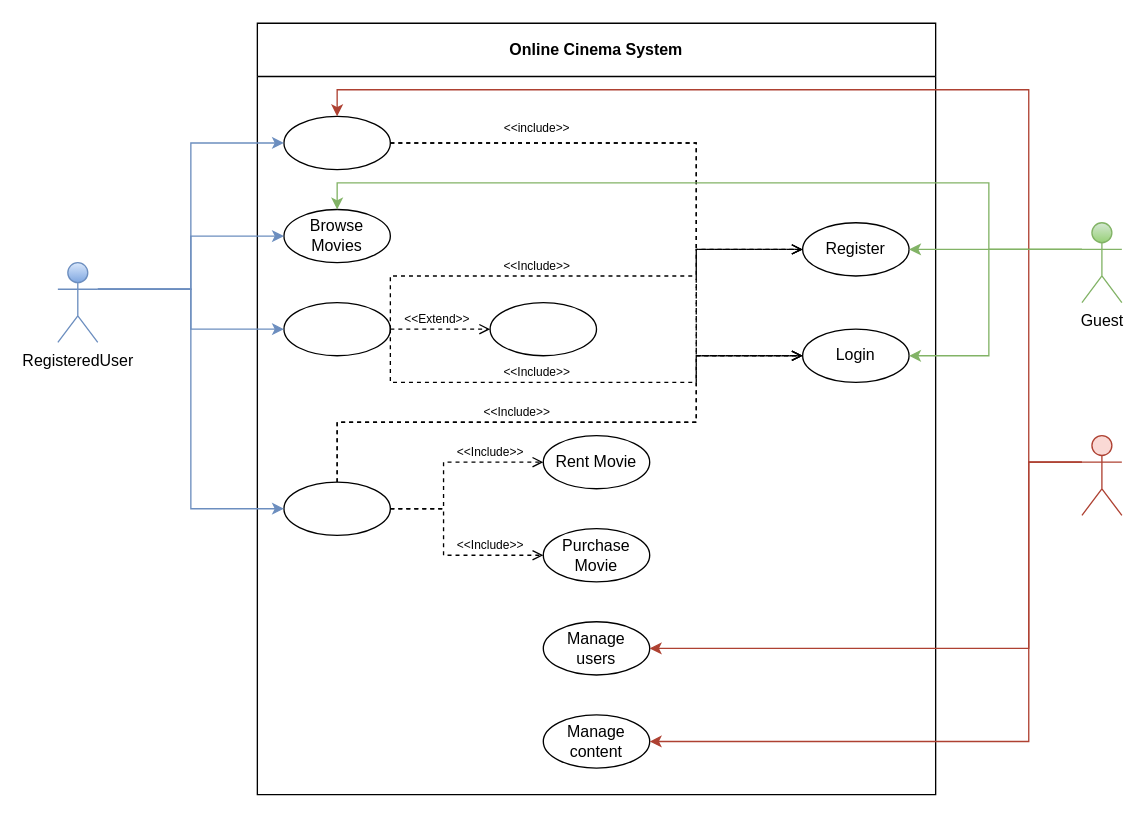
Some shapes in this 1148 by 818 pixel diagram are drawn without their labels. Here are the shapes that lost their labels. From the top down, the centre of each, then its label:
point 336,142: Manage profile
point 336,328: Watch Movie
point 543,328: Add a review
point 1101,474: Admin
point 336,508: Make Payment
